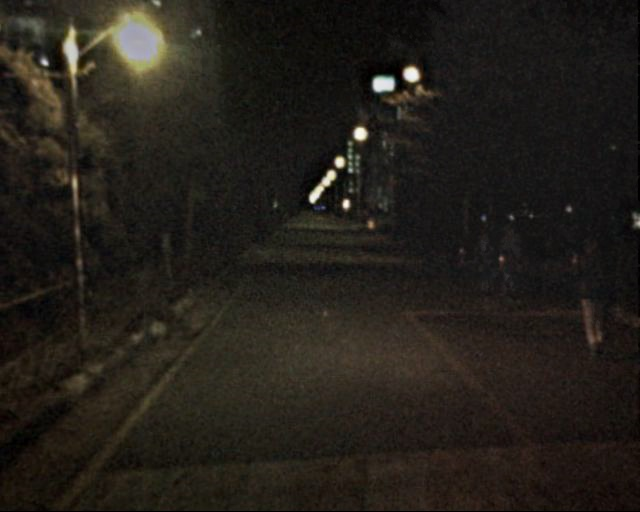person: (563, 232, 614, 356), (489, 219, 528, 305), (470, 228, 506, 303)
